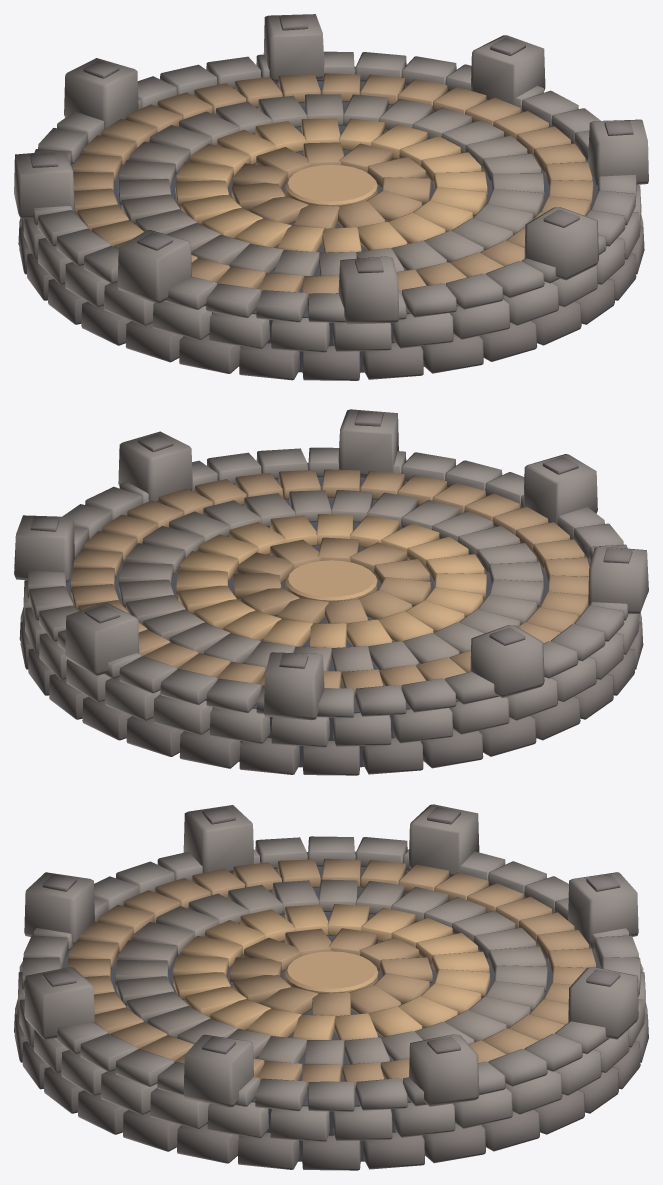
Rendered from OBJ06_round_plaza.glb.
3 views of the same model, one above another, from view 1: azimuth 30°, elevation 25°; view 2: azimuth 150°, elevation 25°; view 3: azimuth 270°, elevation 25° (orthographic).
Parts seen in each view (by area): view 1: PavingRing_2, RimCurb, PavingRing_3, PavingRing_1, EdgeCourseLow, EdgeCourseHigh, PavingRing_0, CapPillar_3, CapPillar_1, CapPillar_7, CapPillar_5, CapPillar_2 (+5 smaller); view 2: RimCurb, PavingRing_2, PavingRing_3, PavingRing_1, EdgeCourseLow, EdgeCourseHigh, PavingRing_0, CapPillar_4, CapPillar_6, CapPillar_0, CapPillar_2, CapPillar_5 (+5 smaller); view 3: PavingRing_2, RimCurb, PavingRing_3, PavingRing_1, EdgeCourseLow, EdgeCourseHigh, PavingRing_0, CapPillar_7, CapPillar_0, CapPillar_1, CapPillar_6, CapPillar_4 (+5 smaller).
Boxes of the visible parts, x1=… form: PavingRing_2: x1=118, y1=94, x2=544, y2=282; RimCurb: x1=32, y1=51, x2=636, y2=322; PavingRing_3: x1=72, y1=73, x2=593, y2=302; PavingRing_1: x1=175, y1=118, x2=487, y2=252; EdgeCourseLow: x1=18, y1=213, x2=644, y2=380; EdgeCourseHigh: x1=21, y1=66, x2=641, y2=352; PavingRing_0: x1=231, y1=142, x2=430, y2=228; CapPillar_3: x1=117, y1=230, x2=191, y2=303; CapPillar_1: x1=524, y1=207, x2=598, y2=280; CapPillar_7: x1=470, y1=35, x2=545, y2=105; CapPillar_5: x1=64, y1=58, x2=138, y2=128; CapPillar_2: x1=338, y1=256, x2=399, y2=324; RimCurb: x1=27, y1=447, x2=628, y2=717; PavingRing_2: x1=118, y1=490, x2=544, y2=678; PavingRing_3: x1=70, y1=469, x2=589, y2=697; PavingRing_1: x1=176, y1=514, x2=486, y2=647; EdgeCourseLow: x1=19, y1=608, x2=643, y2=775; EdgeCourseHigh: x1=23, y1=462, x2=639, y2=747; PavingRing_0: x1=233, y1=537, x2=431, y2=623; CapPillar_4: x1=470, y1=625, x2=544, y2=697; CapPillar_6: x1=65, y1=602, x2=139, y2=675; CapPillar_0: x1=118, y1=431, x2=192, y2=502; CapPillar_2: x1=523, y1=454, x2=597, y2=524; CapPillar_5: x1=264, y1=652, x2=324, y2=720; PavingRing_2: x1=115, y1=879, x2=547, y2=1071; RimCurb: x1=21, y1=836, x2=641, y2=1111; PavingRing_3: x1=67, y1=858, x2=595, y2=1091; PavingRing_1: x1=172, y1=904, x2=490, y2=1040; EdgeCourseLow: x1=14, y1=1000, x2=648, y2=1170; EdgeCourseHigh: x1=17, y1=851, x2=645, y2=1141; PavingRing_0: x1=229, y1=928, x2=432, y2=1016; CapPillar_7: x1=409, y1=1034, x2=479, y2=1106; CapPillar_0: x1=183, y1=1034, x2=253, y2=1107; CapPillar_1: x1=24, y1=967, x2=94, y2=1039; CapPillar_6: x1=568, y1=967, x2=638, y2=1039; CapPillar_4: x1=408, y1=804, x2=479, y2=875.
Size of the model in its own units: 2.84 by 0.545 by 2.85.
